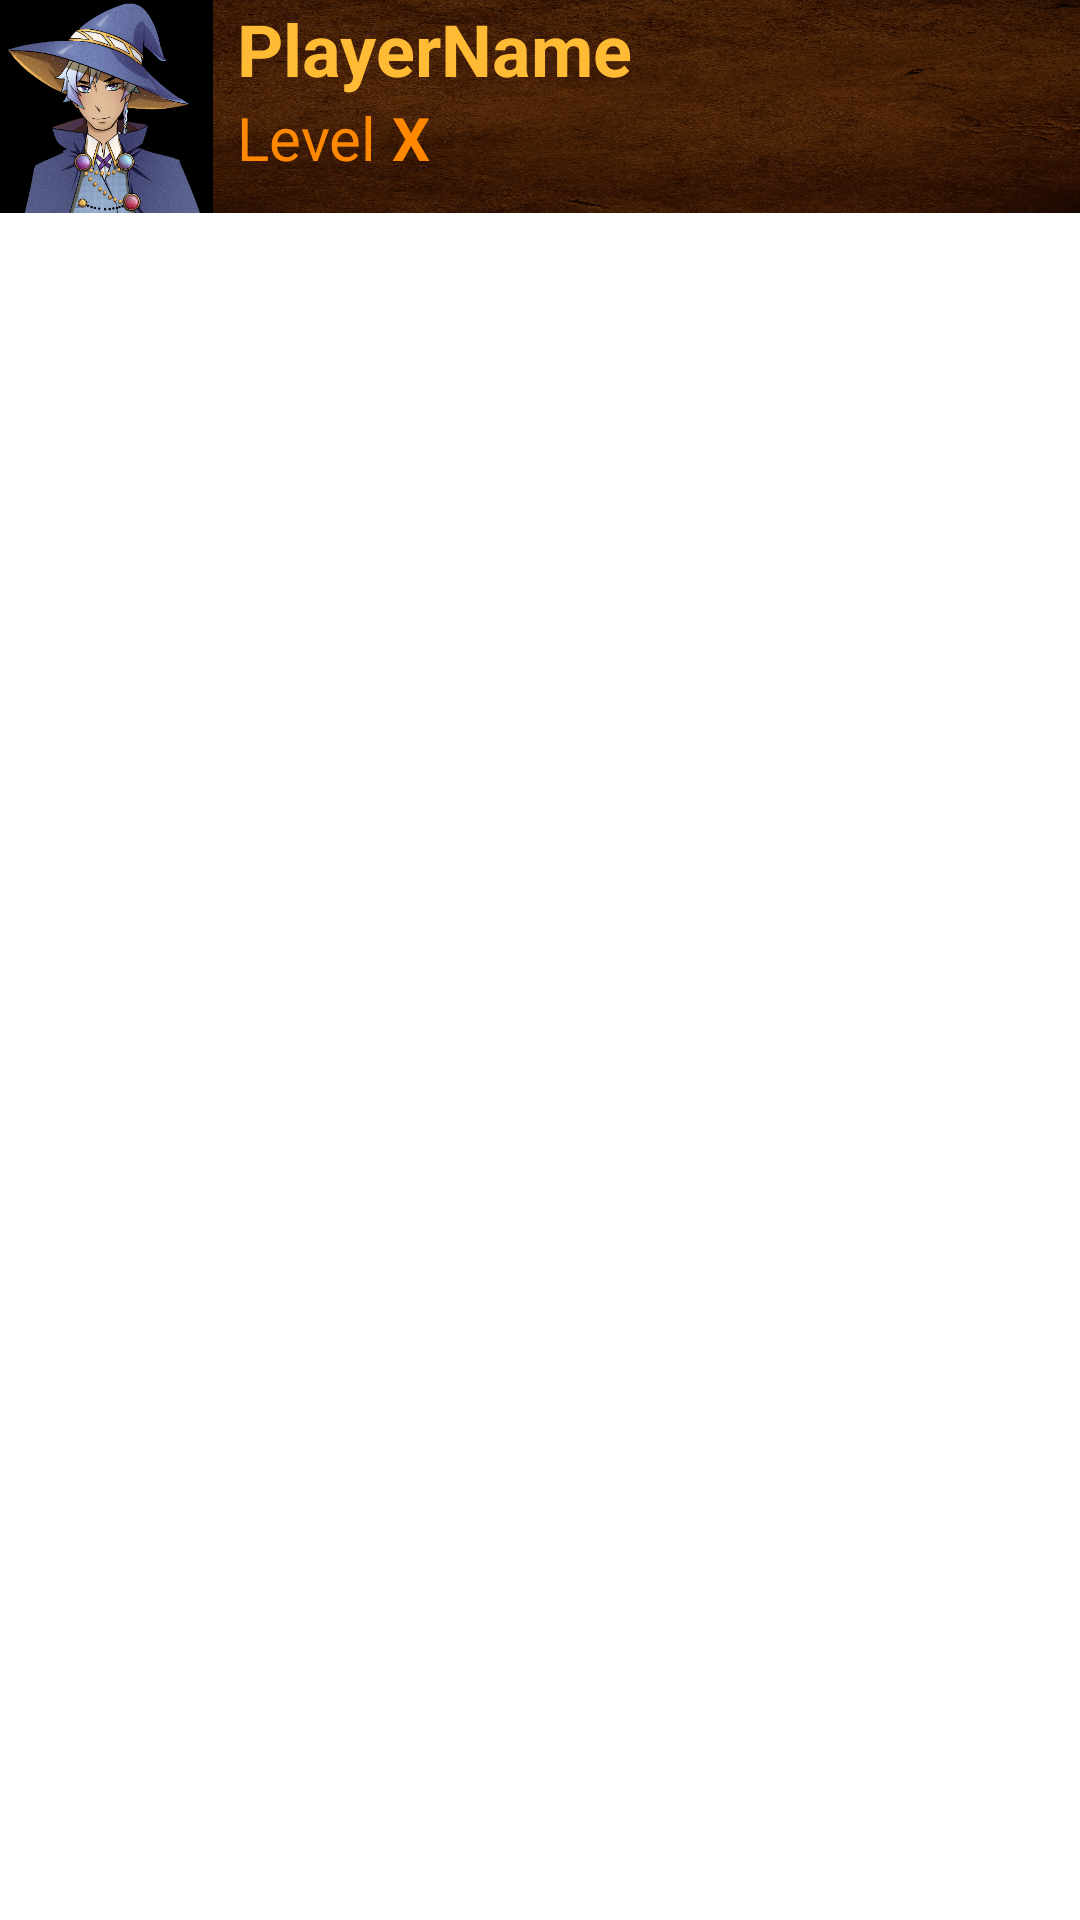

Where to tap for icons on this 1080*1920 app screen, as (x=x, y=y):
player male: (x=106, y=106)
